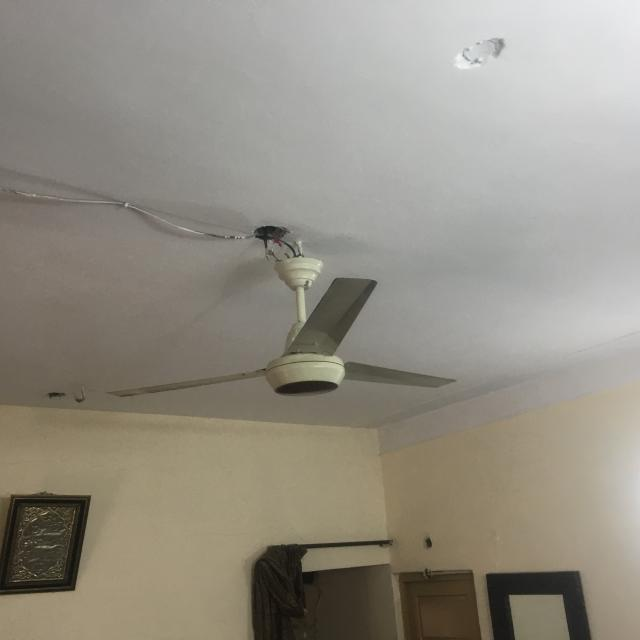off: (101, 272, 466, 409)
